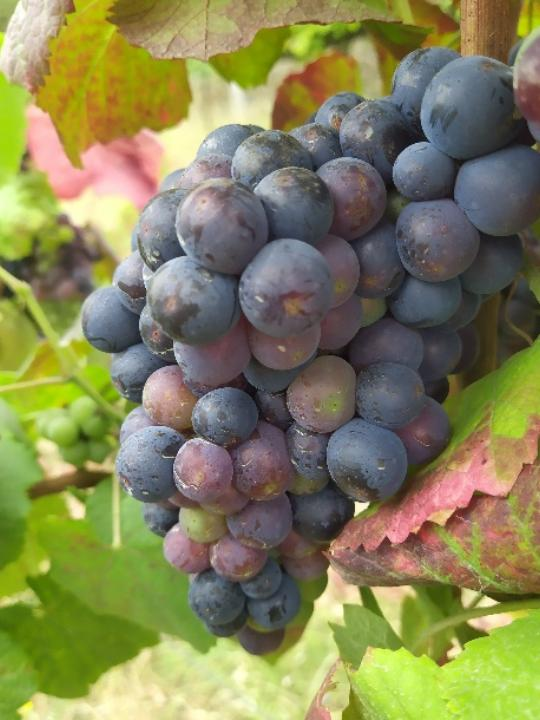grape: (73, 47, 540, 668)
